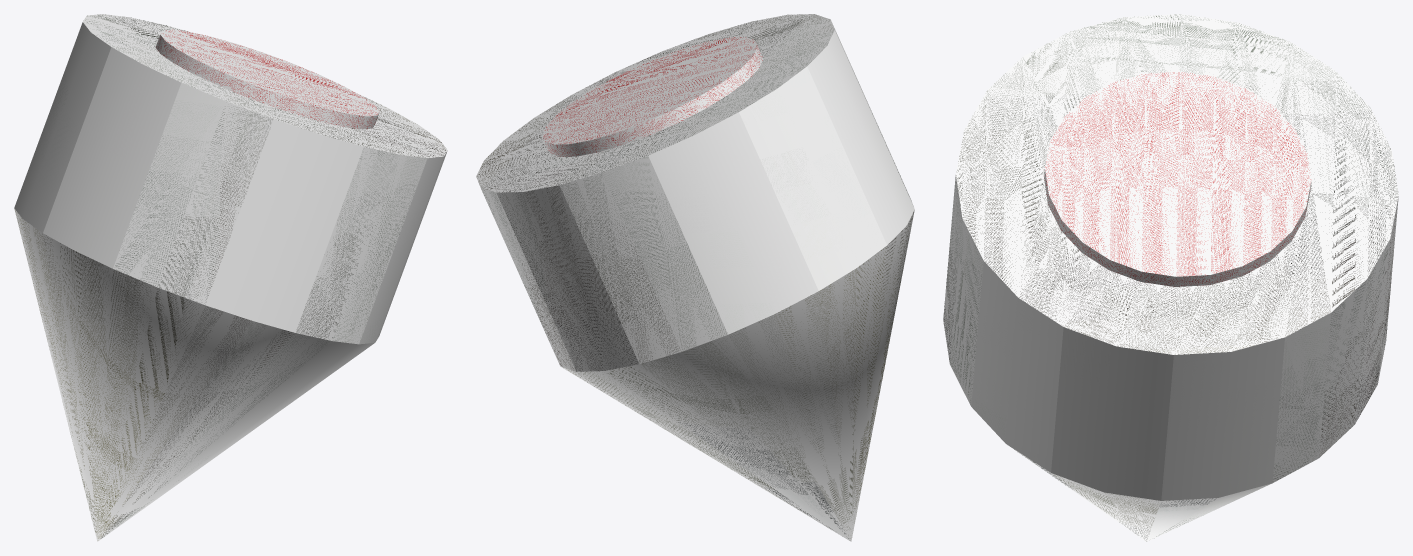
The model's file is original-4.obj.
3 renders of one model, left to right at view 1: azimuth 30°, elevation 25°; view 2: azimuth 150°, elevation 25°; view 3: azimuth 270°, elevation 25°, orthographic. The views are drawn at different scales.
Parts seen in each view (by area): view 1: mesh4/mesh4-geometry#mesh4-geometry; view 2: mesh4/mesh4-geometry#mesh4-geometry; view 3: mesh4/mesh4-geometry#mesh4-geometry.
Boxes of the visible parts, x1,y1,x2,y2 form: mesh4/mesh4-geometry#mesh4-geometry: (14, 14, 447, 541); mesh4/mesh4-geometry#mesh4-geometry: (476, 14, 914, 541); mesh4/mesh4-geometry#mesh4-geometry: (943, 14, 1398, 541).
Size of the model in its own units: 0.1607 by 0.1934 by 0.1468.
